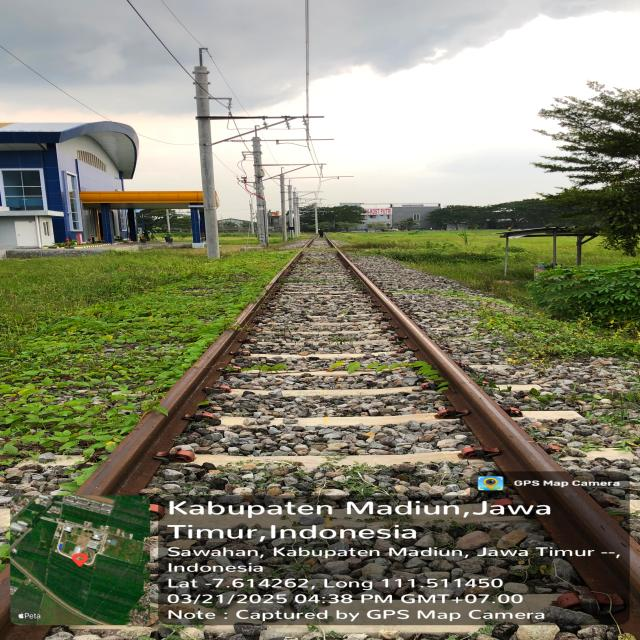rail-detection: (336, 251, 640, 600), (78, 251, 303, 494)
